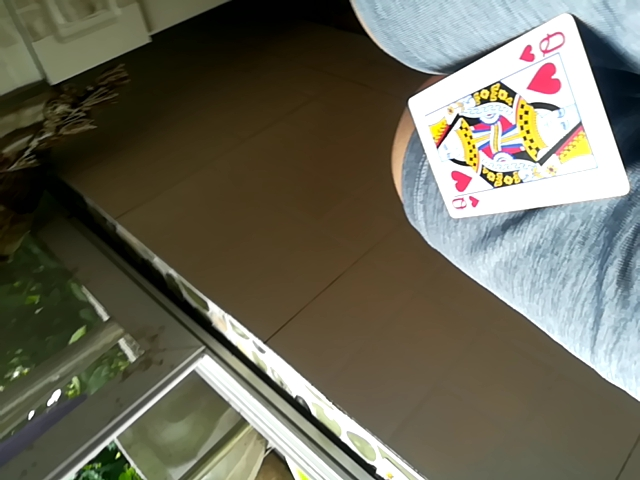hx q: (404, 22, 624, 225)
